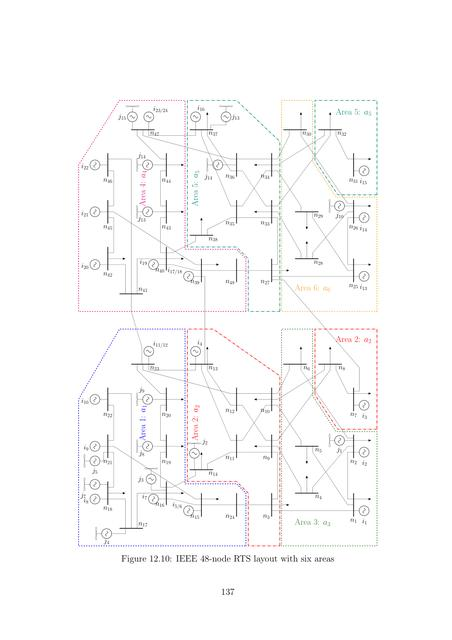box: (74, 95, 382, 551)
